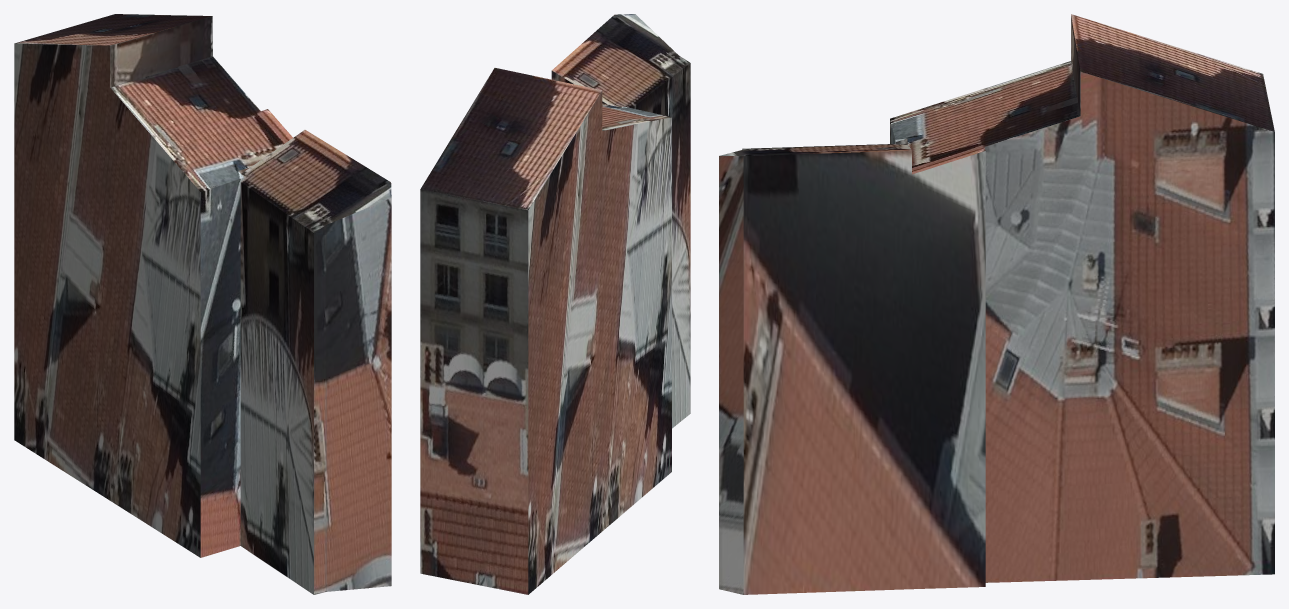
3 renders of one model, left to right at view 1: azimuth 30°, elevation 25°; view 2: azimuth 150°, elevation 25°; view 3: azimuth 270°, elevation 25°, orthographic. The views are drawn at different scales.
Parts seen in each view (by area): view 1: Z_UP; view 2: Z_UP; view 3: Z_UP.
Boxes of the visible parts, bbox=[...] form: Z_UP: bbox=[14, 14, 391, 594]; Z_UP: bbox=[420, 14, 690, 594]; Z_UP: bbox=[719, 14, 1274, 594].
Bounding box in the file's own units: 7.21 × 21.81 × 21.61.
Materials: 2 (1 with a texture image).
